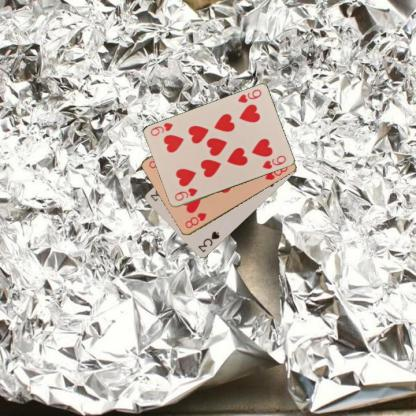3s: (195, 229, 221, 254)
8h: (183, 210, 208, 230)
9h: (235, 86, 263, 104), (172, 186, 198, 202)
